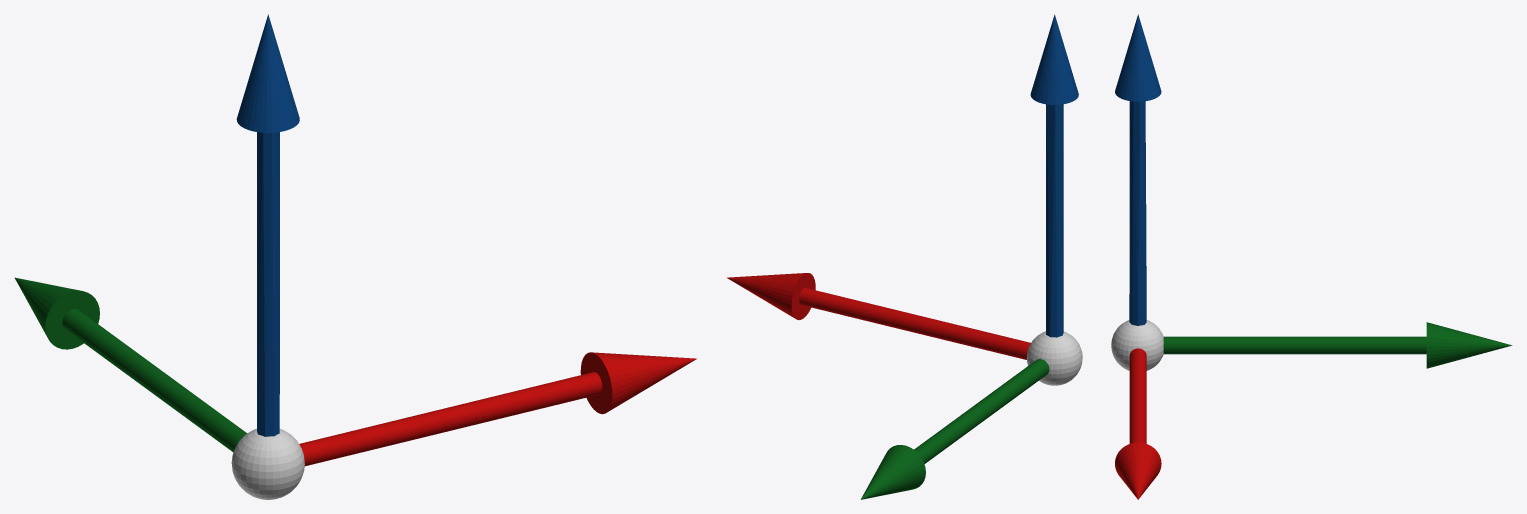
Rendered from orientationaxes.obj.
The picture shows the model from 3 angles, left to right: view 1: azimuth 30°, elevation 25°; view 2: azimuth 150°, elevation 25°; view 3: azimuth 270°, elevation 25°; orthographic projection. The views are drawn at different scales.
Parts seen in each view (by area): view 1: xcylinder, zcylinder, ycylinder, zcone, Sphere_sphere, xcone, ycone; view 2: xcylinder, zcylinder, ycylinder, zcone, xcone, ycone, Sphere_sphere; view 3: ycylinder, zcylinder, zcone, ycone, Sphere_sphere, xcone, xcylinder.
Boxes of the visible parts, bbox=[...] form: xcylinder: bbox=[299, 372, 602, 466]; zcylinder: bbox=[257, 132, 279, 436]; ycylinder: bbox=[62, 309, 246, 452]; zcone: bbox=[236, 14, 299, 132]; Sphere_sphere: bbox=[231, 428, 304, 499]; xcone: bbox=[580, 352, 696, 414]; ycone: bbox=[15, 277, 99, 349]; xcylinder: bbox=[799, 288, 1030, 359]; zcylinder: bbox=[1046, 104, 1063, 337]; ycylinder: bbox=[914, 359, 1049, 463]; zcone: bbox=[1030, 14, 1078, 104]; xcone: bbox=[727, 273, 815, 319]; ycone: bbox=[860, 445, 925, 499]; Sphere_sphere: bbox=[1026, 331, 1082, 385]; ycylinder: bbox=[1163, 336, 1426, 354]; zcylinder: bbox=[1129, 101, 1146, 325]; zcone: bbox=[1115, 14, 1161, 101]; ycone: bbox=[1426, 322, 1512, 368]; Sphere_sphere: bbox=[1111, 320, 1163, 370]; xcone: bbox=[1115, 442, 1161, 499]; xcylinder: bbox=[1129, 348, 1146, 443].
Bounding box in the file's own units: 1.08 × 1.08 × 1.1.
